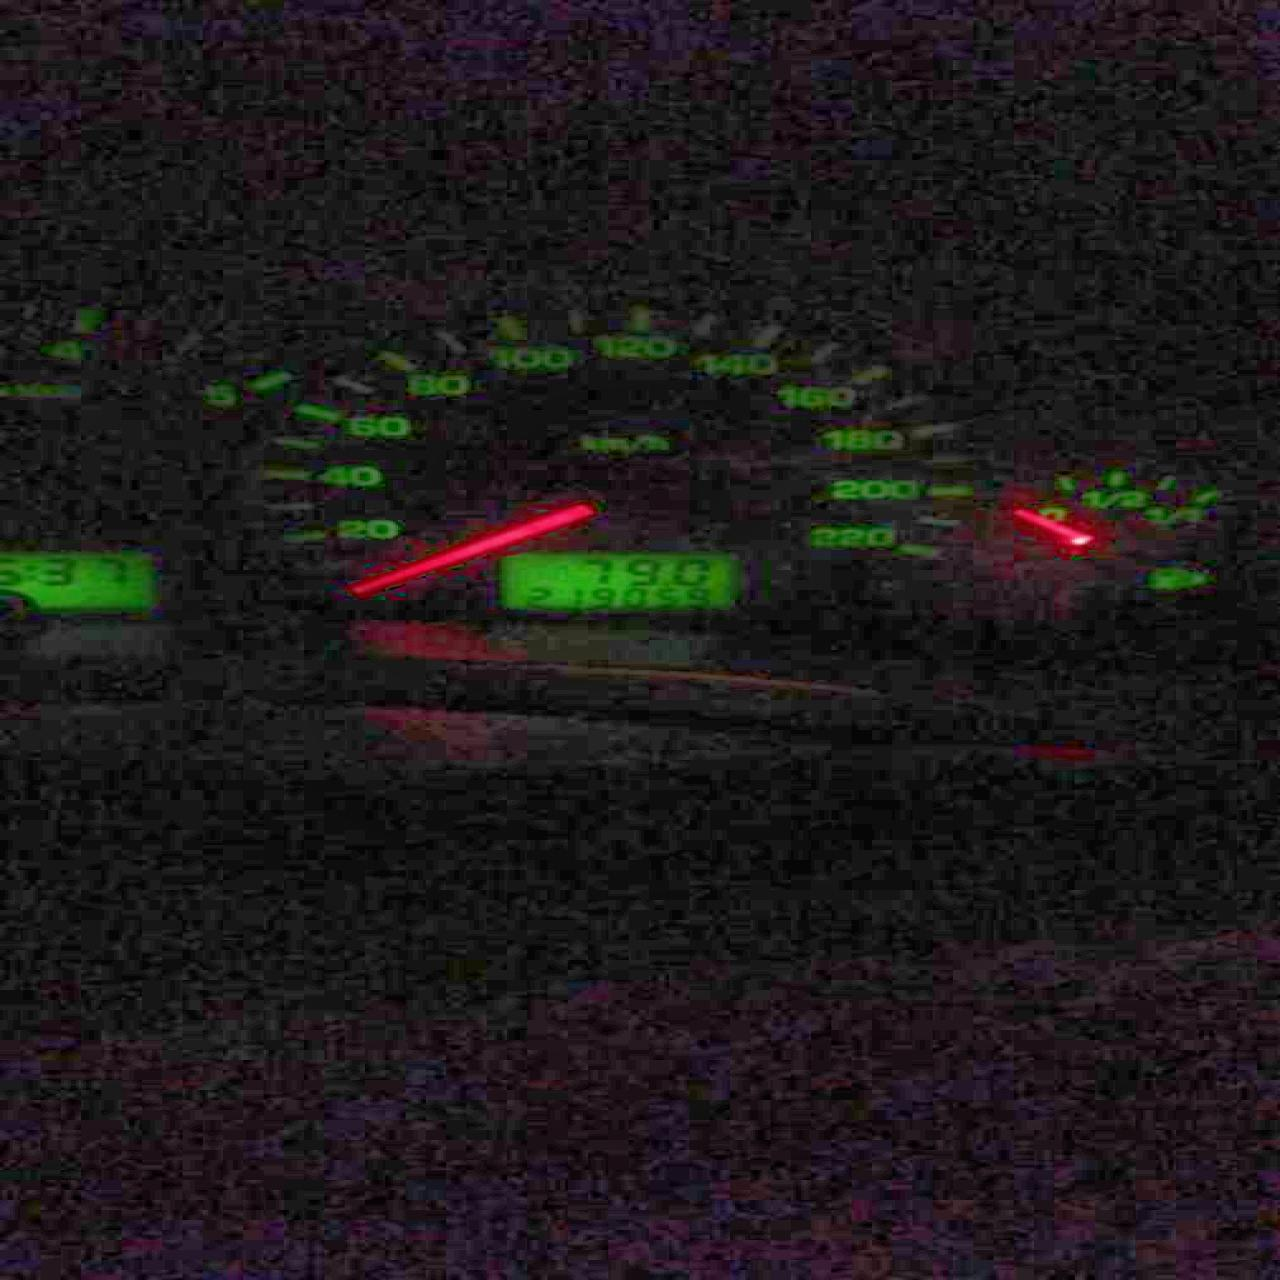-: (659, 580, 667, 586)
0: (669, 557, 710, 585), (619, 586, 647, 606)
1: (565, 586, 583, 606)
2: (519, 586, 552, 605)
5: (652, 586, 680, 606)
7: (580, 557, 611, 584)
9: (621, 557, 659, 585), (588, 586, 617, 606), (682, 586, 710, 606)
odometer: (493, 547, 740, 613)
